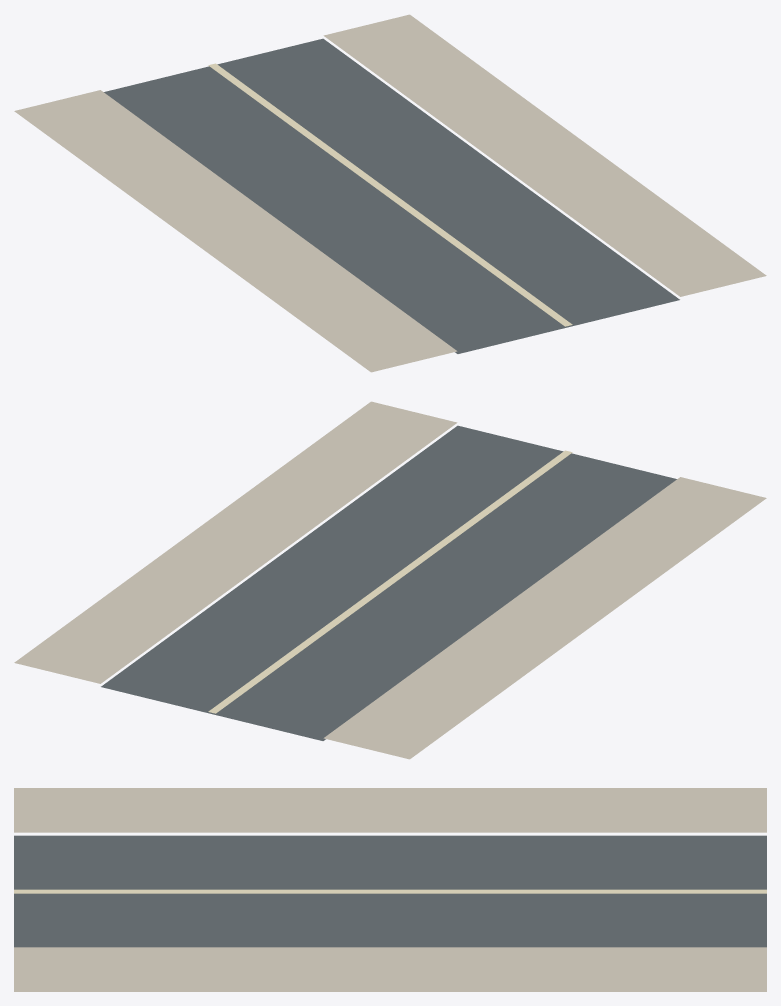
The model's file is road.glb.
3 views of the same model, one above another, from view 1: azimuth 30°, elevation 25°; view 2: azimuth 150°, elevation 25°; view 3: azimuth 270°, elevation 25° (orthographic). The views are drawn at different scales.
Visible parts, largest first — view 1: Carriageway, Batch_Sidewalk stone_, Batch_Road paint_; view 2: Carriageway, Batch_Sidewalk stone_, Batch_Road paint_; view 3: Carriageway, Batch_Sidewalk stone_, Batch_Road paint_.
Part boxes in pixels (bbox=[...]): Carriageway: bbox=[104, 38, 679, 353]; Batch_Sidewalk stone_: bbox=[14, 14, 766, 372]; Batch_Road paint_: bbox=[208, 63, 572, 326]; Carriageway: bbox=[101, 425, 676, 740]; Batch_Sidewalk stone_: bbox=[14, 401, 766, 759]; Batch_Road paint_: bbox=[208, 450, 572, 713]; Carriageway: bbox=[14, 835, 766, 947]; Batch_Sidewalk stone_: bbox=[14, 788, 766, 991]; Batch_Road paint_: bbox=[14, 889, 766, 893].
Size of the model in its own units: 1.83 by 0.013 by 2.86.
